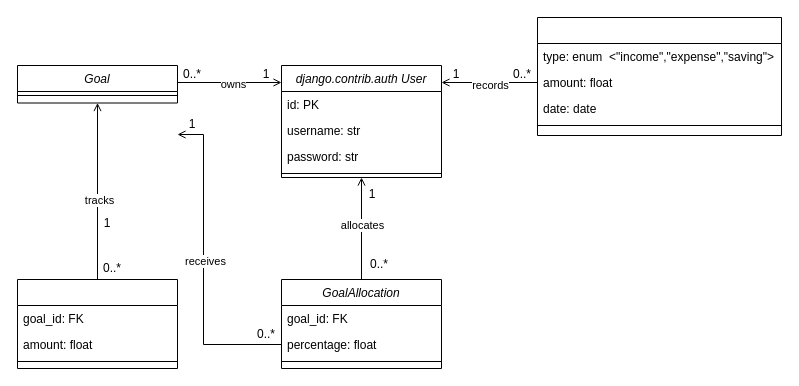
Some shapes in this 799 by 386 pixel diagram are drawn without their labels. Here are the shapes that lost their labels. From the top down, the box of each, then its label:
(536, 16, 782, 136): IncomeExpense
(16, 278, 178, 368): SavingsEntry
